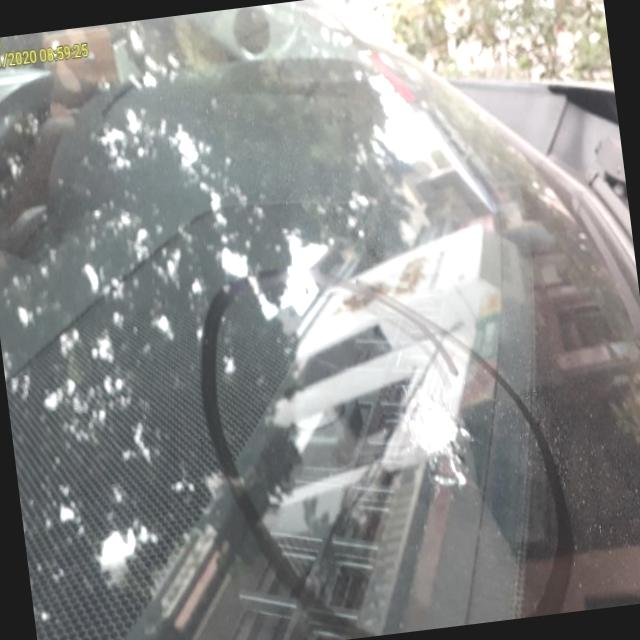Fissure: (374, 365, 478, 513)
